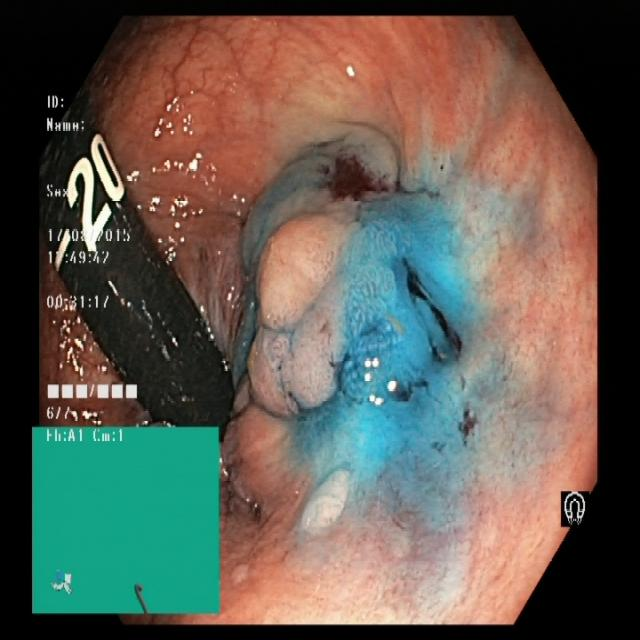diedpolyp: (339, 163, 495, 513)
location: (32, 429, 218, 614)
